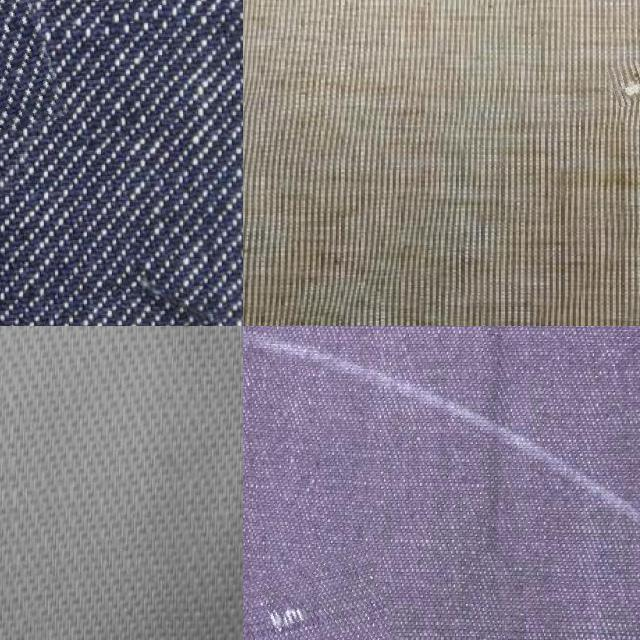Thread_other: (243, 558, 394, 640)
seam: (609, 59, 640, 105)
